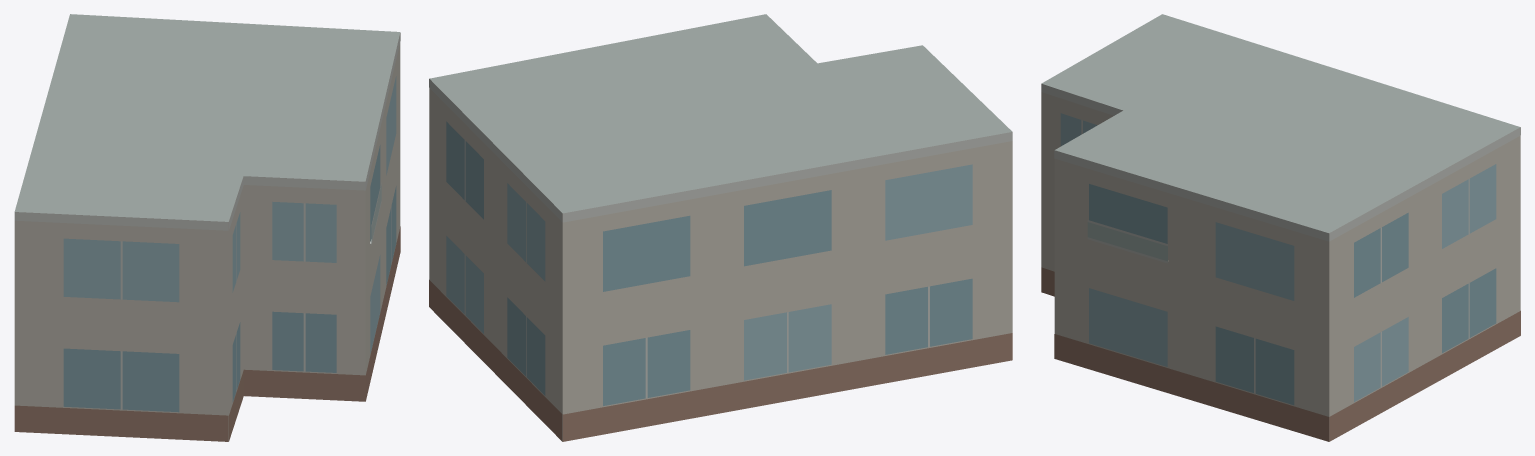
File: survey-upis-32622075.glb
3 renders of one model, left to right at view 1: azimuth 30°, elevation 25°; view 2: azimuth 150°, elevation 25°; view 3: azimuth 270°, elevation 25°, orthographic. The views are drawn at different scales.
Parts seen in each view (by area): view 1: survey-upis-32622075.tmp; view 2: survey-upis-32622075.tmp; view 3: survey-upis-32622075.tmp.
Boxes of the visible parts, x1,y1,x2,y2 form: survey-upis-32622075.tmp: [14, 14, 400, 441]; survey-upis-32622075.tmp: [429, 14, 1012, 441]; survey-upis-32622075.tmp: [1041, 14, 1520, 441].
Bounding box in the file's own units: 13.76 × 6.1 × 12.72.
